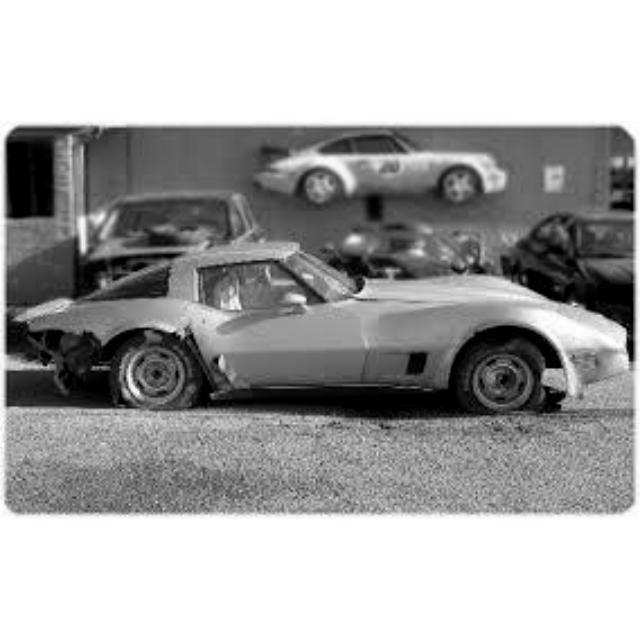doorouter-dent: (210, 313, 284, 389)
quaterpanel-dent: (27, 311, 135, 353)
